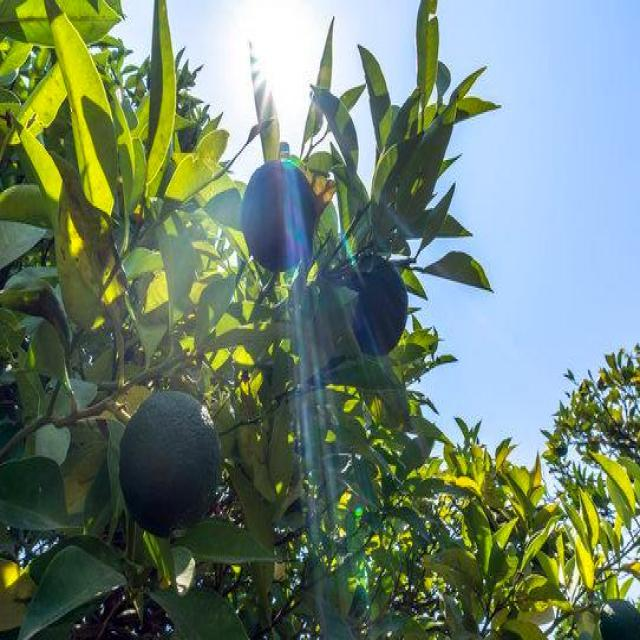Jeruk Belum Matang: (119, 389, 220, 537), (242, 162, 318, 274), (349, 254, 411, 352), (601, 595, 640, 640)
